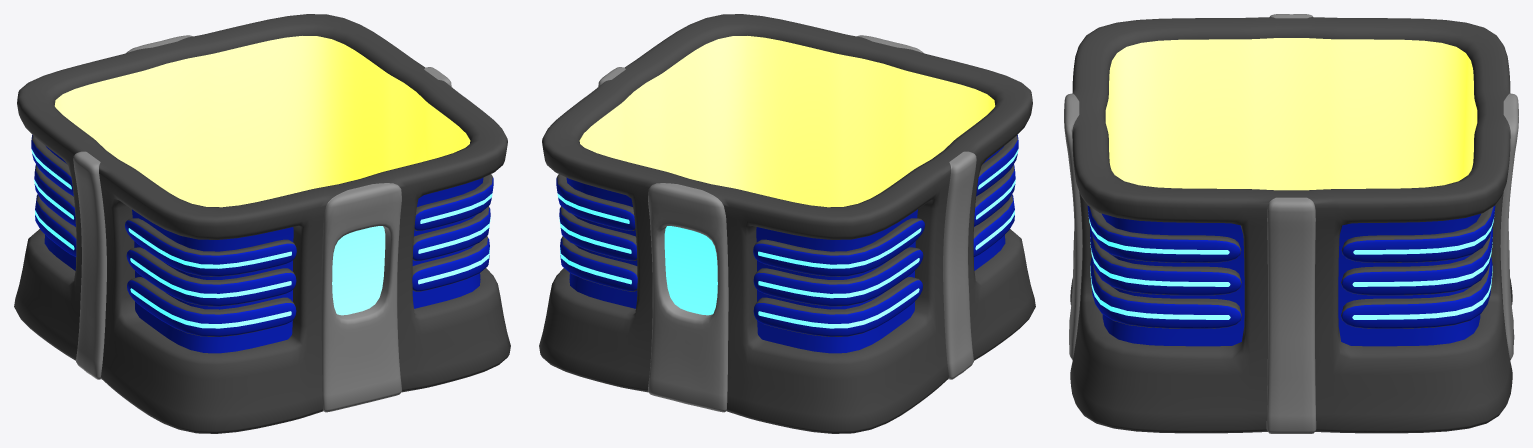
File: mesh_Lootbox_Bottom.fbx
3 views of the same model, side by side, from view 1: azimuth 30°, elevation 25°; view 2: azimuth 150°, elevation 25°; view 3: azimuth 270°, elevation 25° (orthographic). The views are drawn at different scales.
Parts seen in each view (by area): view 1: mesh_Lootbox_Bottom; view 2: mesh_Lootbox_Bottom; view 3: mesh_Lootbox_Bottom.
Boxes of the visible parts, x1,y1,x2,y2 form: mesh_Lootbox_Bottom: (14,14,510,433); mesh_Lootbox_Bottom: (539,14,1035,433); mesh_Lootbox_Bottom: (1064,14,1518,433).
Bounding box in the file's own units: 1.57 × 0.8879 × 1.57.
